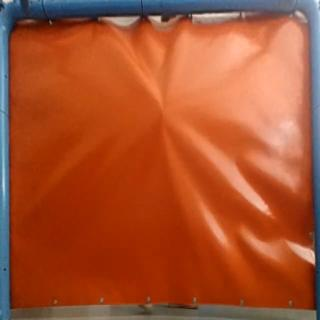Hit-hRxx: (156, 109, 172, 127)
